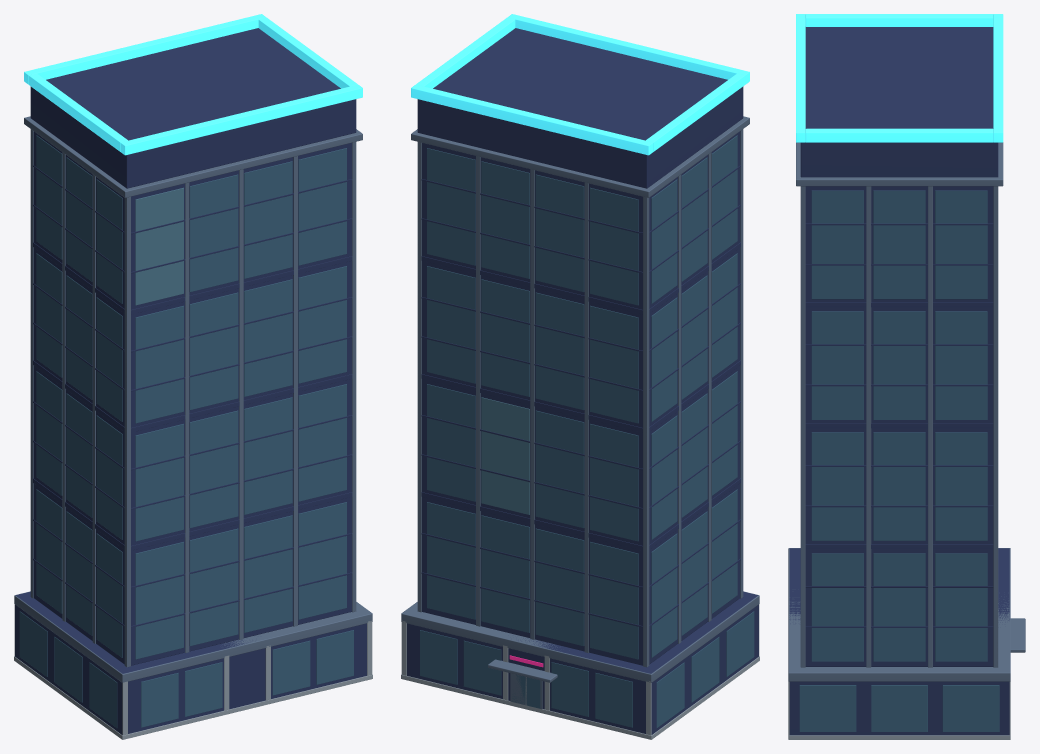
Rendered from d04_towers_01.glb.
3 renders of one model, left to right at view 1: azimuth 30°, elevation 25°; view 2: azimuth 150°, elevation 25°; view 3: azimuth 270°, elevation 25°, orthographic. The views are drawn at different scales.
Parts seen in each view (by area): view 1: D04Towers01_Facade, D04Towers01_Crown, D04Towers01_Lobby; view 2: D04Towers01_Facade, D04Towers01_Crown, D04Towers01_Lobby; view 3: D04Towers01_Facade, D04Towers01_Crown, D04Towers01_Lobby.
Part boxes in pixels (box(x1,y1,x2,y2)): D04Towers01_Facade: box(30, 129, 356, 667); D04Towers01_Crown: box(24, 14, 362, 197); D04Towers01_Lobby: box(14, 591, 372, 739); D04Towers01_Facade: box(417, 129, 743, 667); D04Towers01_Crown: box(411, 14, 749, 197); D04Towers01_Lobby: box(401, 591, 759, 739); D04Towers01_Facade: box(800, 186, 998, 667); D04Towers01_Crown: box(796, 14, 1003, 186); D04Towers01_Lobby: box(788, 548, 1025, 739).
Bounding box in the file's own units: 24 × 54 × 19.2.
